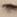cockroach: (2, 3, 17, 10)
